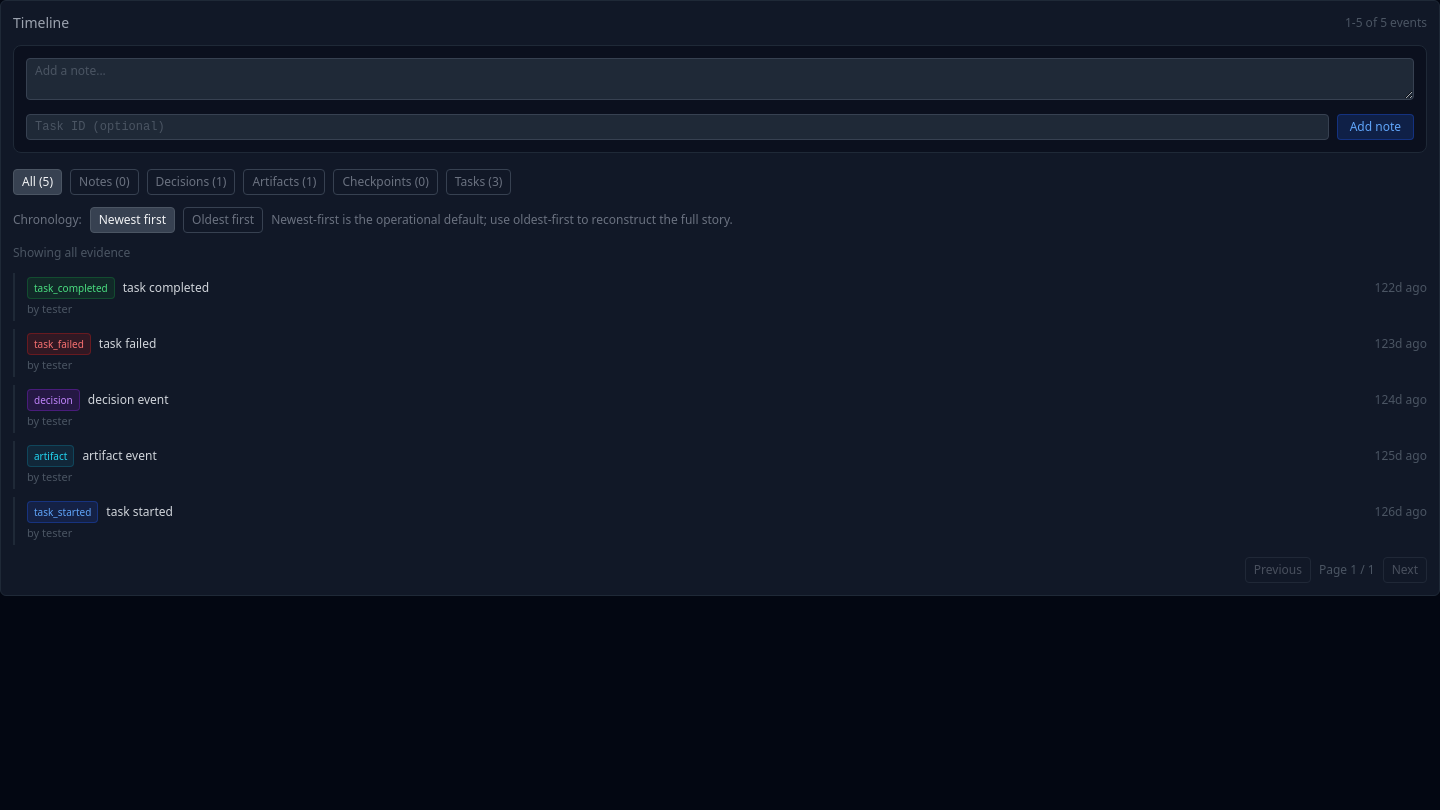
Test: ExperimentTimelineCard › filters by decisions, artifacts, and tasks
Click the button "Decisions (1)" at point(191, 182), box [146,169,235,195]
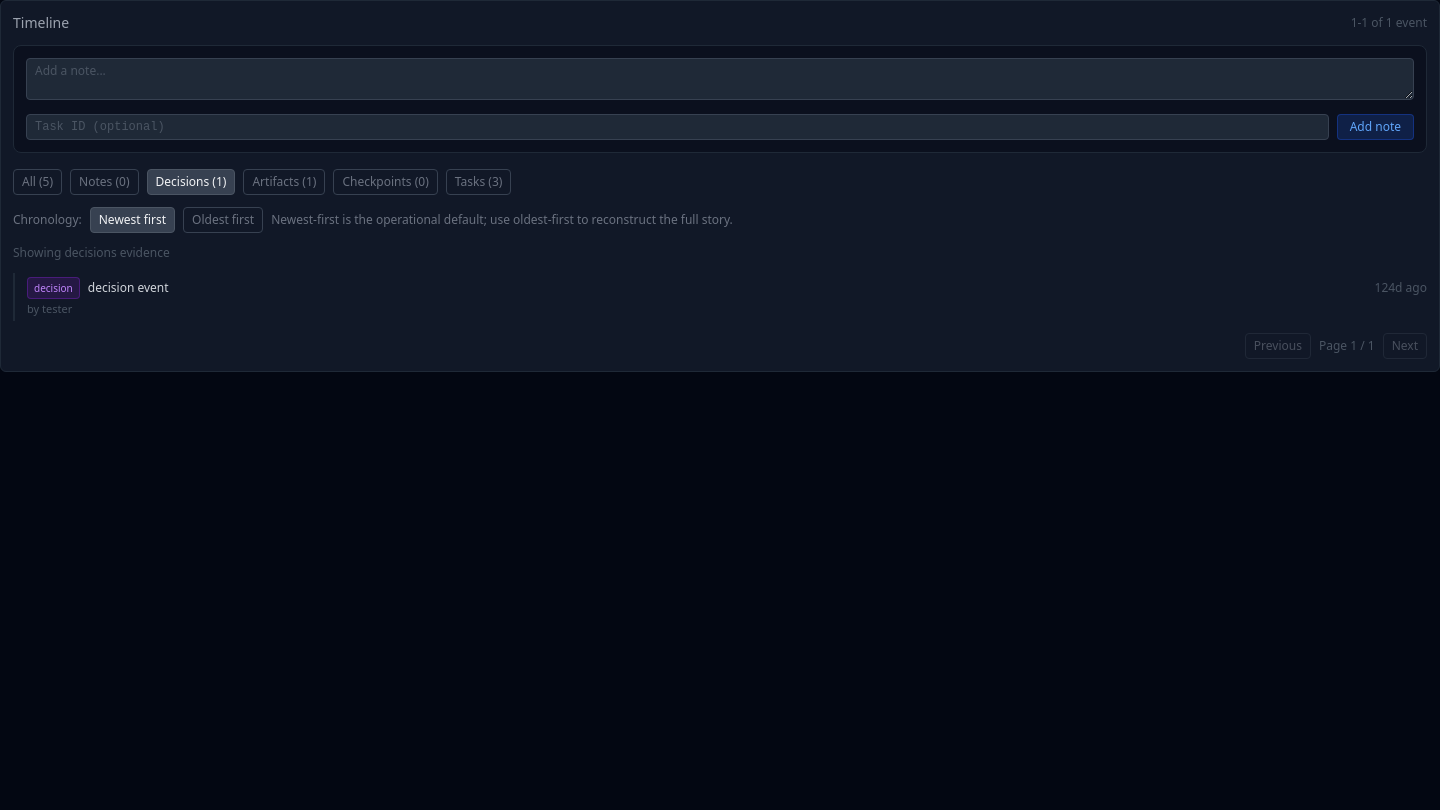
expect the list item shows "decision event": met, box [88,279,169,296]
expect the text "Showing decisions evidence" is shown: met, box [13,244,170,261]
expect the number of list items is 1: met, box [13,273,1427,321]
Click the button "Artifacts (1)" at point(284, 182), box [243,169,325,195]
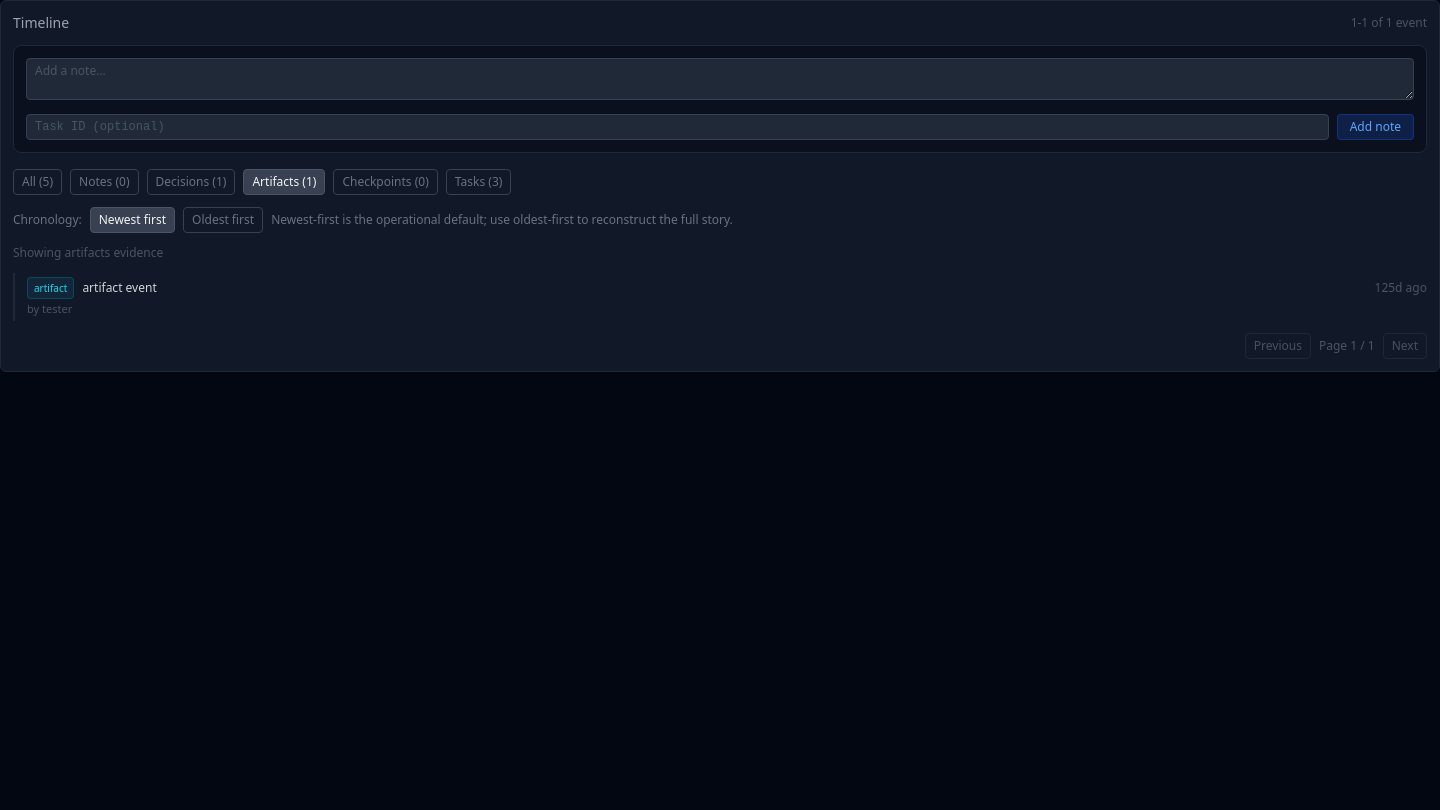
expect the number of list items is 1: met, box [13,273,1427,321]
expect the text "Showing artifacts evidence" is shown: met, box [13,244,163,261]
expect the list item shows "artifact event": met, box [82,279,157,296]
Click the button "Tasks (3)" at point(479, 182), box [446,169,511,195]
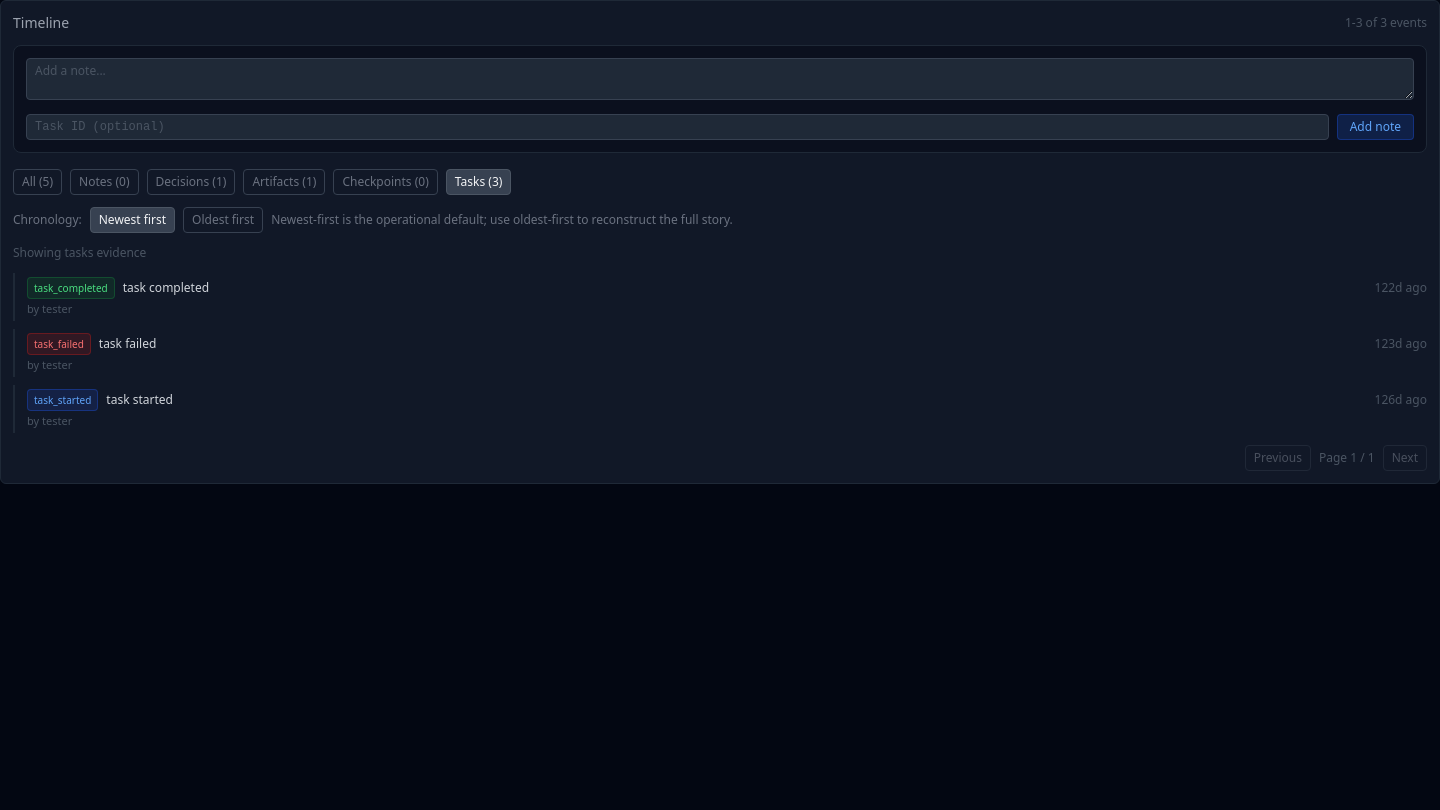
expect the text "Showing tasks evidence" is shown: met, box [13,244,146,261]
expect the number of list items is 3: met, box [13,273,1427,321]; [13,329,1427,377]; [13,385,1427,433]
expect the list item "task_completed task completed 122d ago by tester" is shown: met, box [13,273,1427,321]
